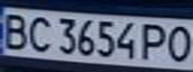3: (51, 15, 78, 55)
4: (115, 19, 142, 60)
5: (93, 18, 118, 60)
6: (75, 16, 100, 57)
B: (0, 10, 30, 51)
C: (24, 14, 54, 53)
O: (163, 24, 193, 64)
P: (136, 20, 172, 62)
